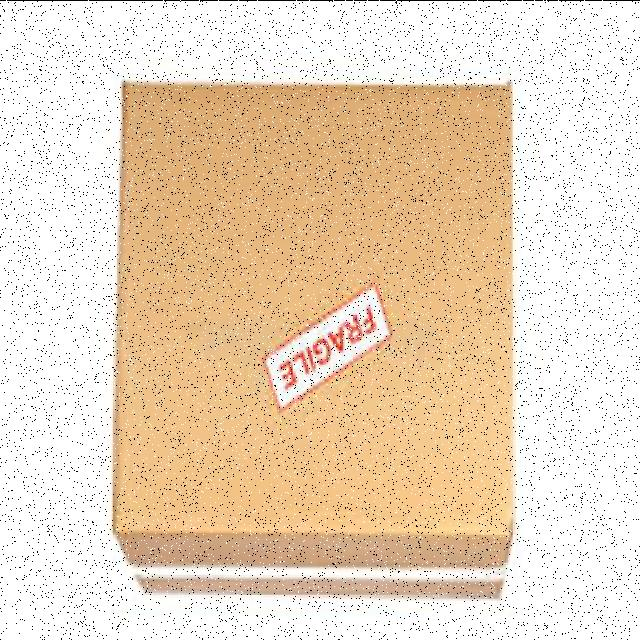normal: (109, 68, 525, 608)
